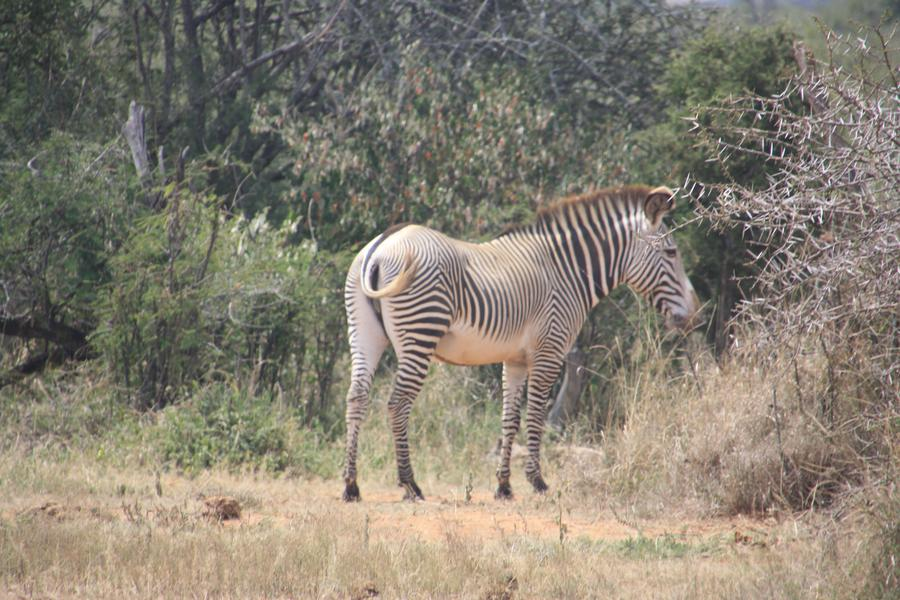zebra_grevys: (367, 203, 568, 364)
